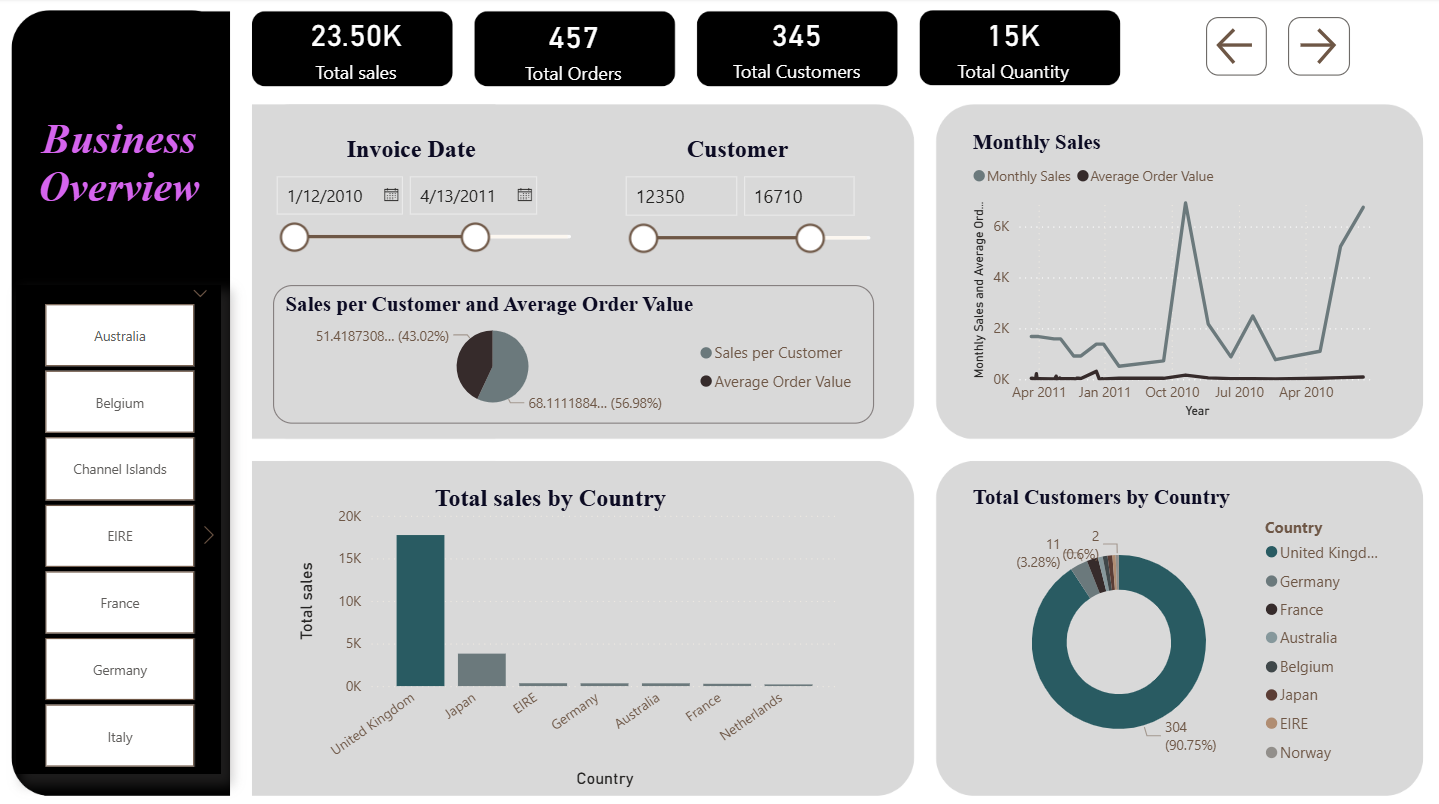

Layout of this report page (visuals, bound fields, positions):
{"tool":"powerbi","page":{"name":"Business Overview","canvas":[1280,720],"ordinal":1},"visuals":[{"type":"card","fields":{"Values":["data.Total Customers"]},"box":[606.7,0,205.3,84],"z":0},{"type":"card","fields":{"Values":["data.Total sales"]},"box":[221.3,6.7,193.3,70.7],"z":1000},{"type":"card","fields":{"Values":["data.Total Orders"]},"box":[414.7,1.3,192,84],"z":2000},{"type":"card","fields":{"Values":["data.Total Quantity"]},"box":[750.7,0,300,84],"z":3000},{"type":"textbox","box":[17.3,98.7,181.3,98.7],"z":4000},{"type":"slicer","fields":{"Values":["data.Country"]},"box":[16.9,254.6,182.2,434.3],"z":5000},{"type":"lineChart","title":"Monthly Sales ","fields":{"Y":["data.Monthly Sales","data.Average Order Value"],"Category":["data.InvoiceDate.Variation.Date Hierarchy.Year","data.InvoiceDate.Variation.Date Hierarchy.Quarter","data.InvoiceDate.Variation.Date Hierarchy.Month","data.InvoiceDate.Variation.Date Hierarchy.Day"]},"box":[860,117.3,381.3,260],"z":6000},{"type":"donutChart","fields":{"Category":["data.Country"],"Y":["data.Total Customers"]},"box":[860,432,381.3,257.3],"z":7000},{"type":"slicer","fields":{"Values":["data.InvoiceDate"]},"box":[234.7,148,294.7,93.3],"z":8000},{"type":"textbox","box":[305.3,117.3,153.3,46.7],"z":9000},{"type":"textbox","box":[606.7,117.3,126.7,46.7],"z":10000},{"type":"slicer","fields":{"Values":["data.CustomerID"]},"box":[544,148,250.7,122.7],"z":11000},{"type":"lineClusteredColumnComboChart","fields":{"Y":["data.Total sales"],"Category":["data.Country"]},"box":[261.3,445.3,489.3,260],"z":12000},{"type":"textbox","box":[382.7,426.7,294.7,76],"z":13000},{"type":"pieChart","fields":{"Y":["data.Sales per Customer","data.Average Order Value"]},"box":[244.4,254.3,533.3,123.5],"z":14000},{"type":"actionButton","box":[1144.9,16.9,55.5,51.9],"z":15000},{"type":"actionButton","box":[1071.6,17.3,54.3,51.9],"z":16000}]}

Visuals, with their boxes in screenshot pixels (x1, y1, x2, y2), scaled from the page's 1280x720 canvas onto the 1439x804 screenshot:
card - data.Total Customers: box=[682, 0, 913, 94]
card - data.Total sales: box=[249, 7, 466, 86]
card - data.Total Orders: box=[466, 1, 682, 95]
card - data.Total Quantity: box=[844, 0, 1181, 94]
textbox: box=[19, 110, 223, 220]
slicer - data.Country: box=[19, 284, 224, 769]
"Monthly Sales " lineChart: box=[967, 131, 1395, 421]
donutChart - data.Country x data.Total Customers: box=[967, 482, 1395, 770]
slicer - data.InvoiceDate: box=[264, 165, 595, 269]
textbox: box=[343, 131, 516, 183]
textbox: box=[682, 131, 825, 183]
slicer - data.CustomerID: box=[612, 165, 893, 302]
lineClusteredColumnComboChart - data.Total sales x data.Country: box=[294, 497, 844, 788]
textbox: box=[430, 476, 762, 561]
pieChart - data.Sales per Customer x data.Average Order Value: box=[275, 284, 874, 422]
actionButton: box=[1287, 19, 1350, 77]
actionButton: box=[1205, 19, 1266, 77]
